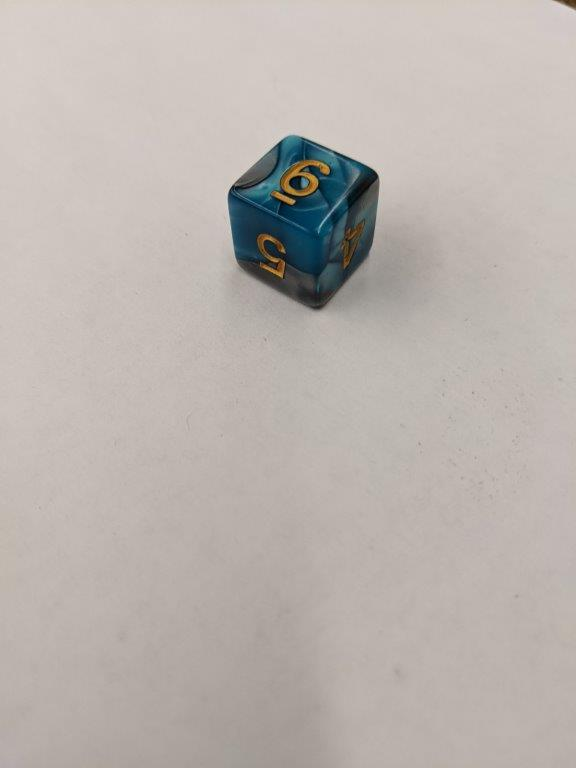d6-6: (228, 132, 382, 308)
